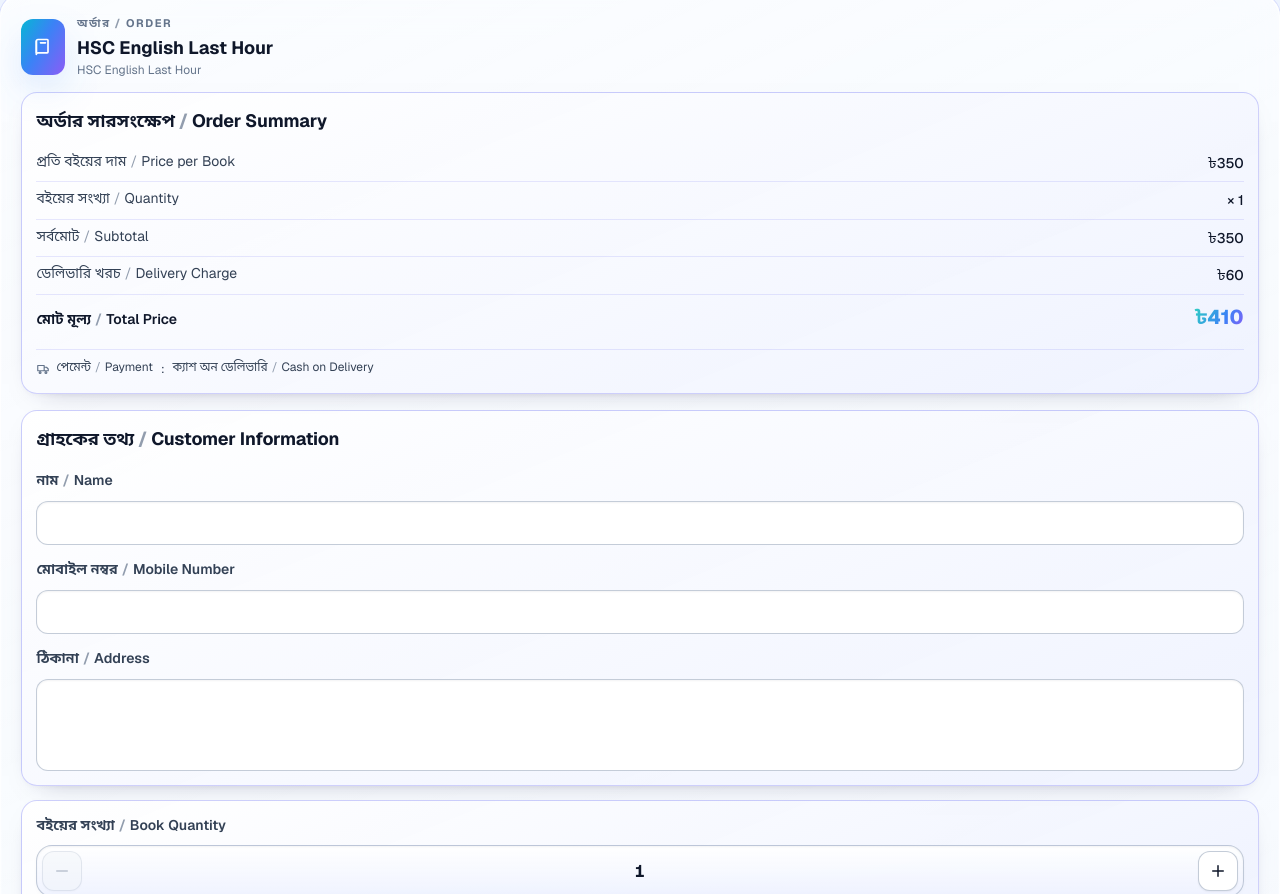
Test: OrderForm › submits a valid order and shows the confirmation from the server
Type "Ayesha Rahman" into the field labelled "নাম/Name" at point(640, 523), box top-left (36, 501), bottom-right (1244, 546)
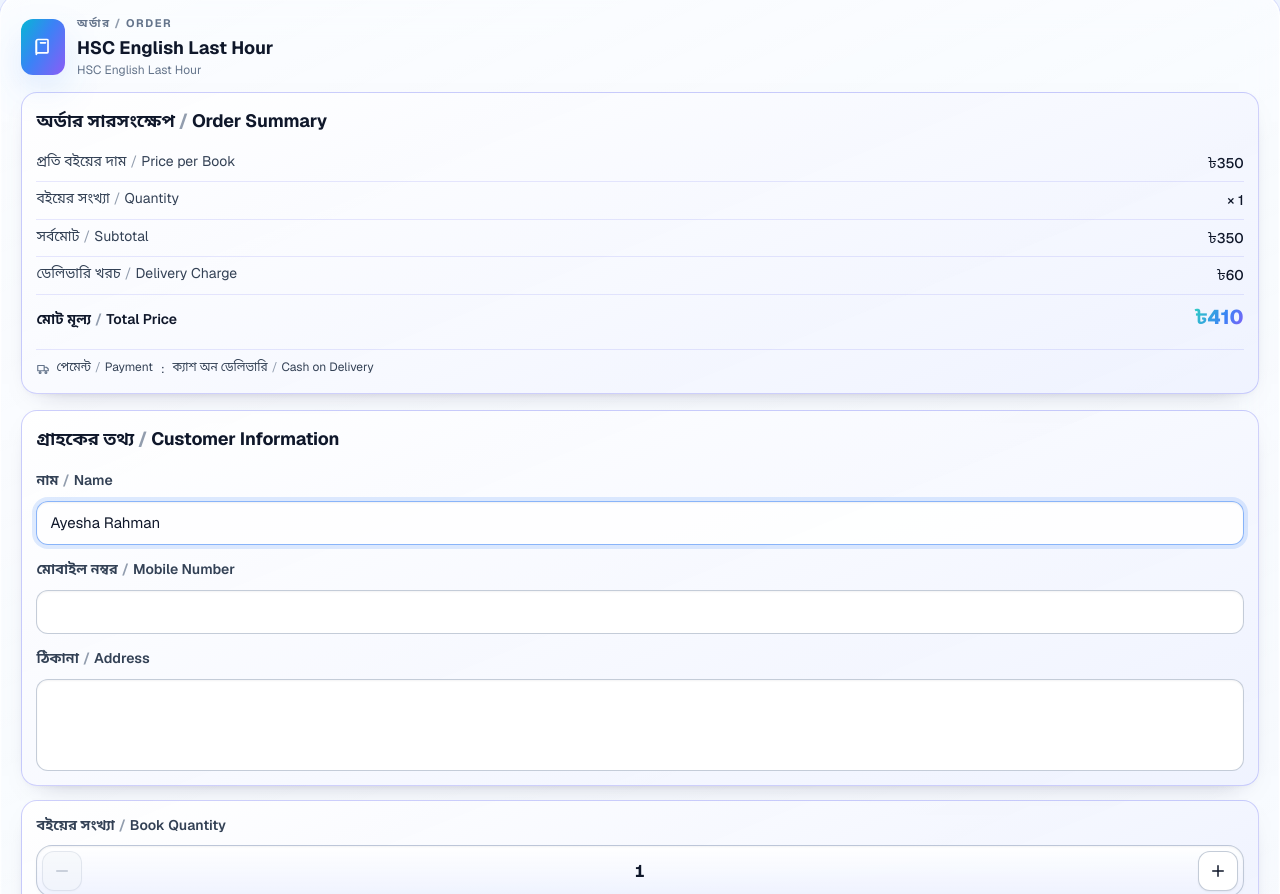
Type "01712345678" into the field labelled "মোবাইল নম্বর/Mobile Number" at point(640, 612), box top-left (36, 590), bottom-right (1244, 634)
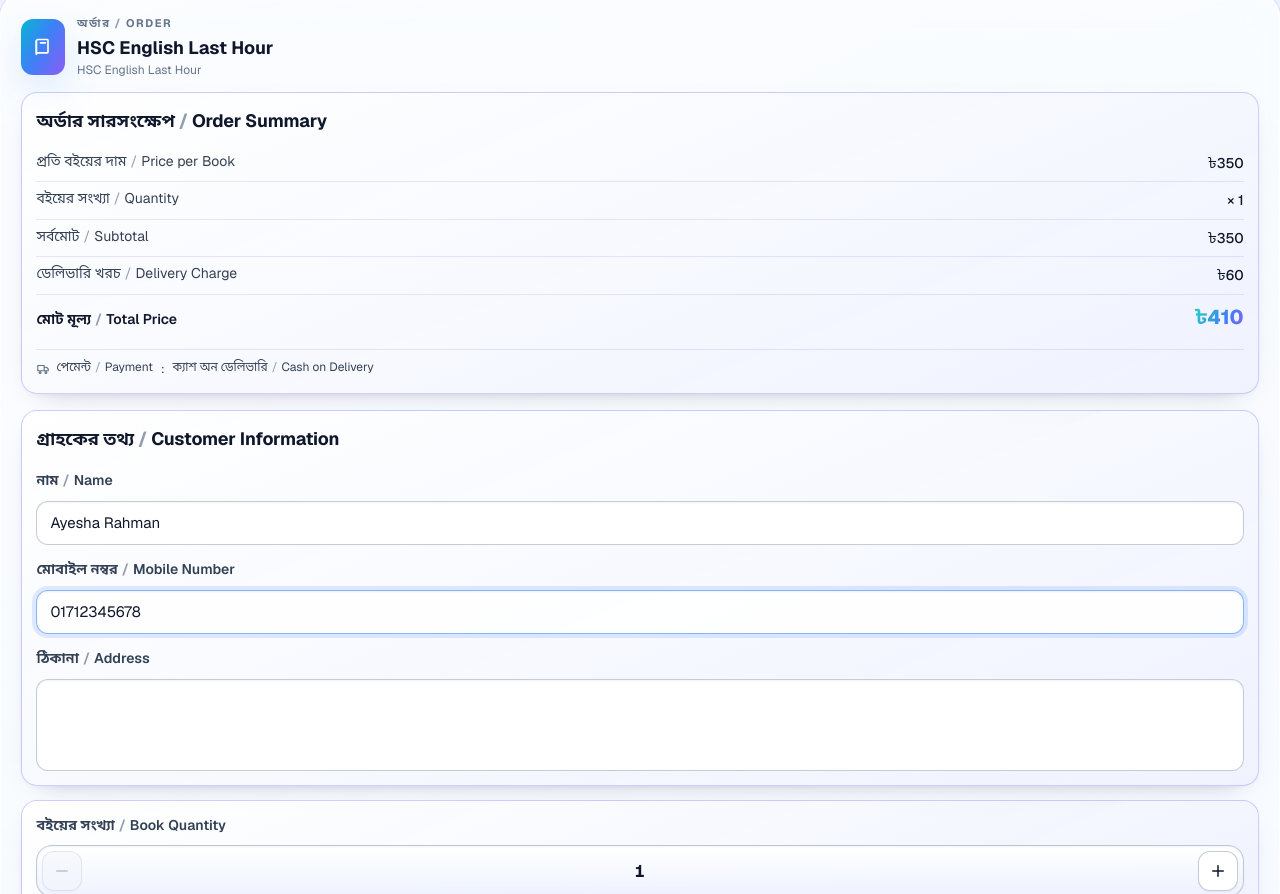
Type "House 12, Road 5, Dhanmondi" into the text box labelled "ঠিকানা/Address" at point(640, 725), box top-left (36, 679), bottom-right (1244, 771)
(page scrolled)
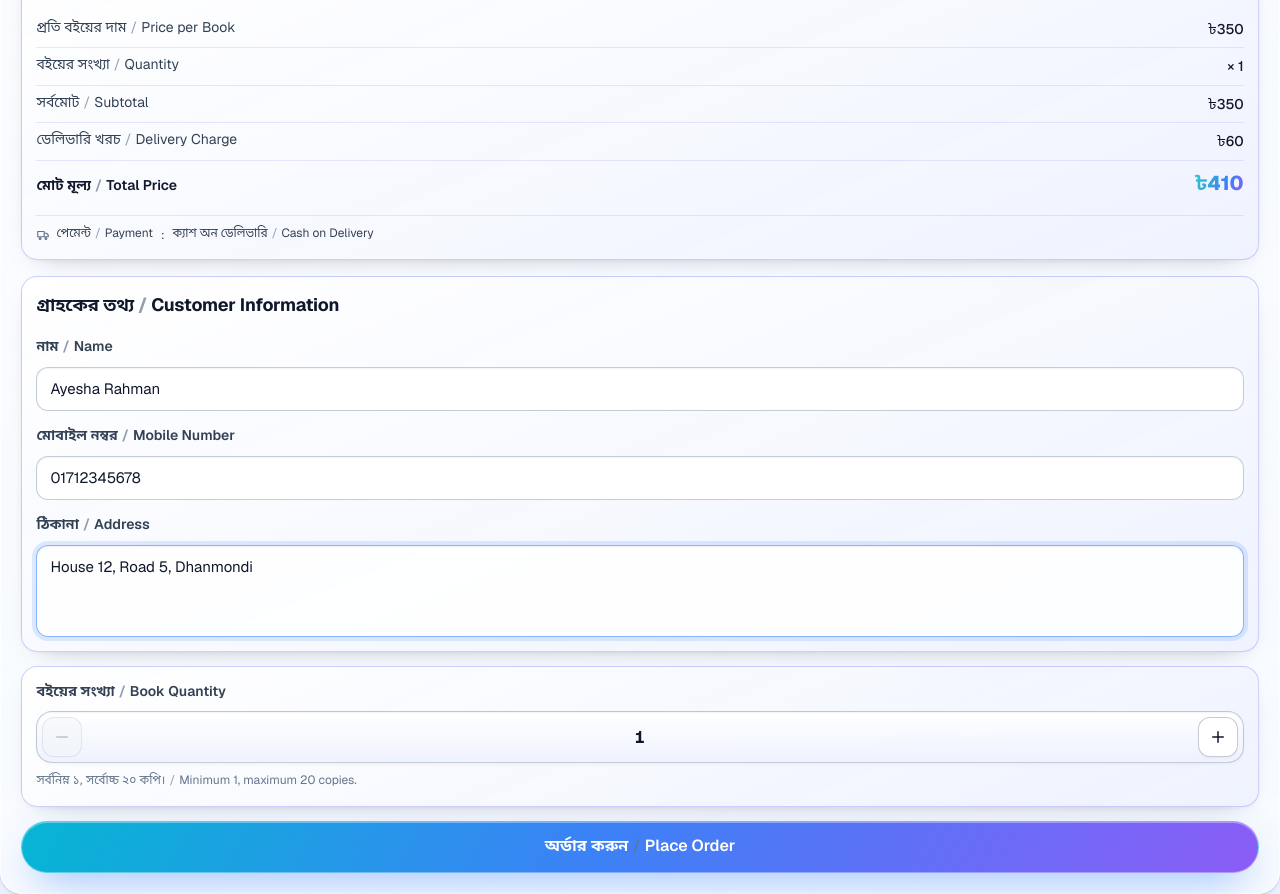
Click the button "অর্ডার করুন/Place Order" at point(640, 848), box top-left (21, 822), bottom-right (1259, 874)
(page scrolled)
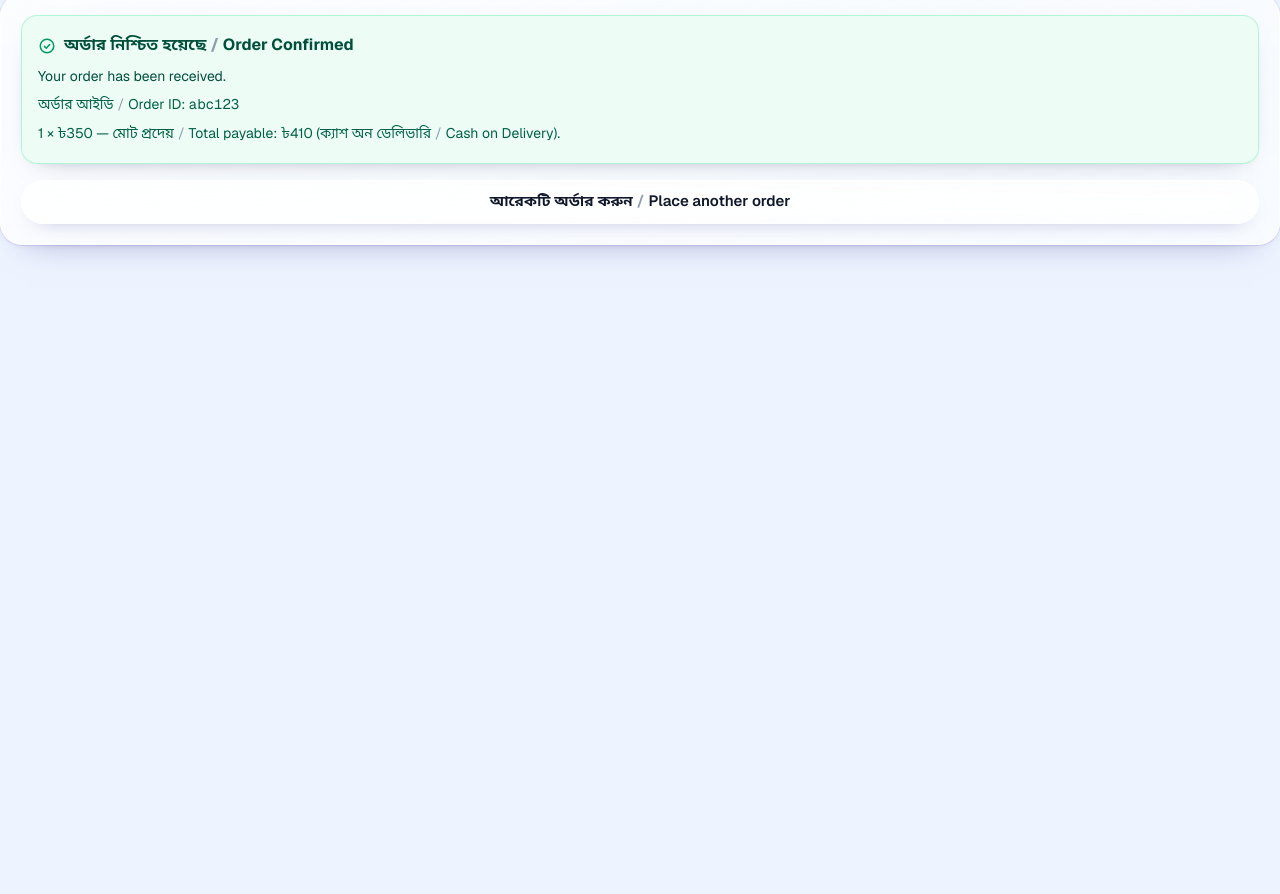
Now the text "Order Confirmed" is shown, box top-left (223, 34), bottom-right (354, 55)
Now the text "abc123" is shown, box top-left (189, 95), bottom-right (239, 113)
